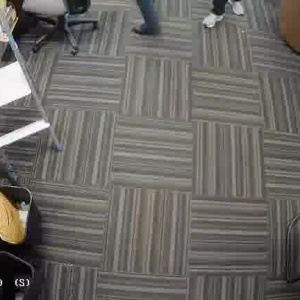person: (132, 0, 161, 46), (206, 0, 246, 32)
